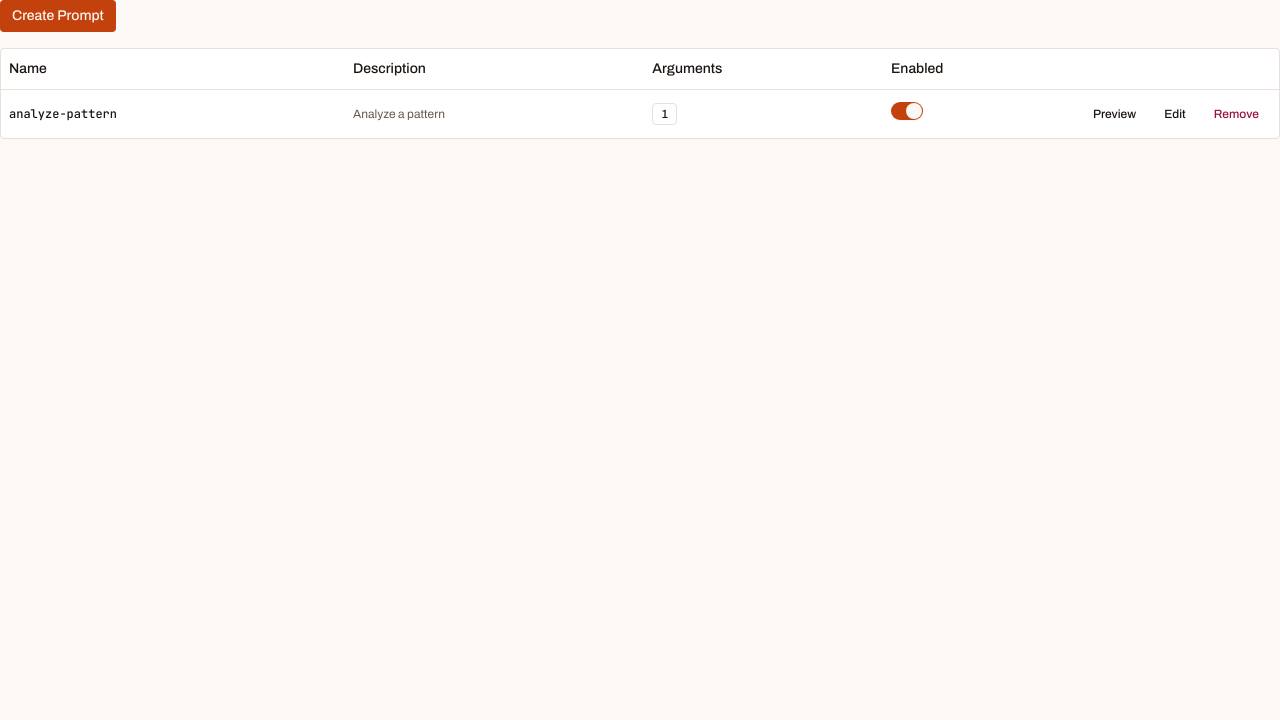
Test: preview flow › renders the template with mock arg values applied to declared names
The image size is (1280, 720).
Click the button "Preview".
click(1115, 114)  # box [1081,98,1148,130]
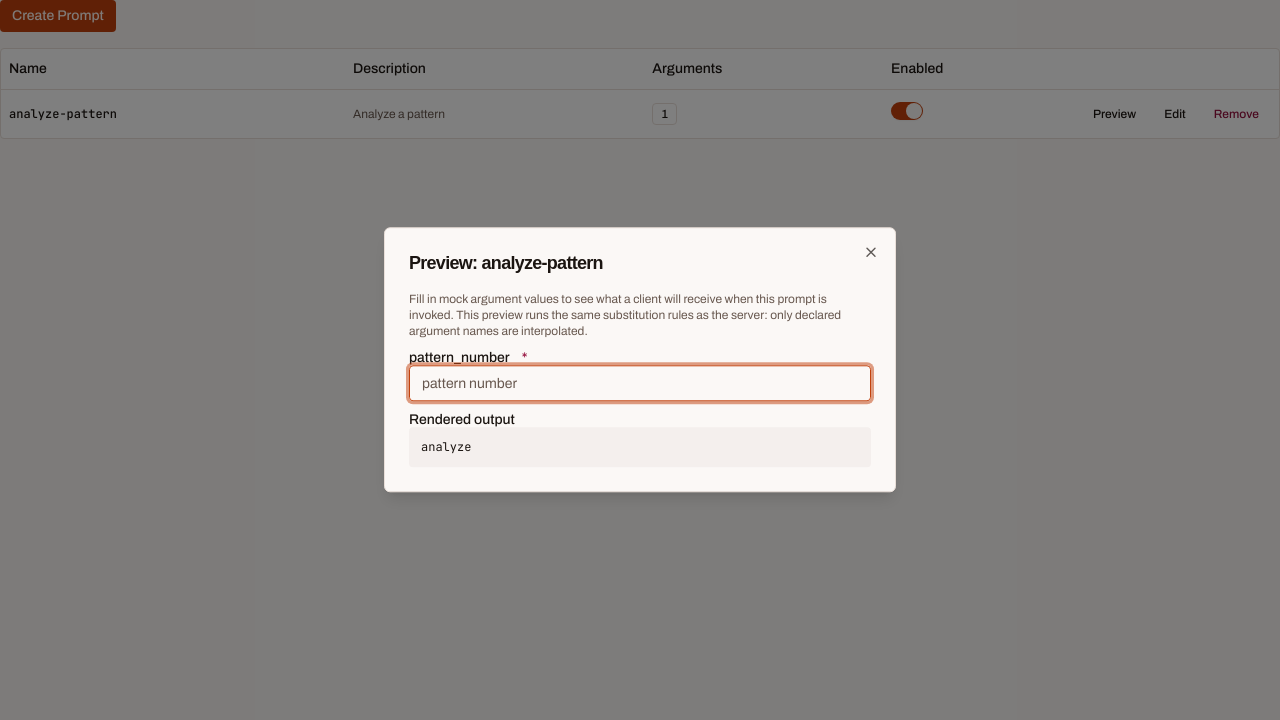
expect the heading "Preview: analyze-pattern" is shown: met, box [409,253,603,273]
expect the text with test id "preview-output" reads "analyze": met, box [421,440,479,456]
// Fill the arg and verify substitution happens client-side.
Type "7" into the field labelled "pattern_number *".
click(640, 384); type("7")  # box [409,366,871,402]
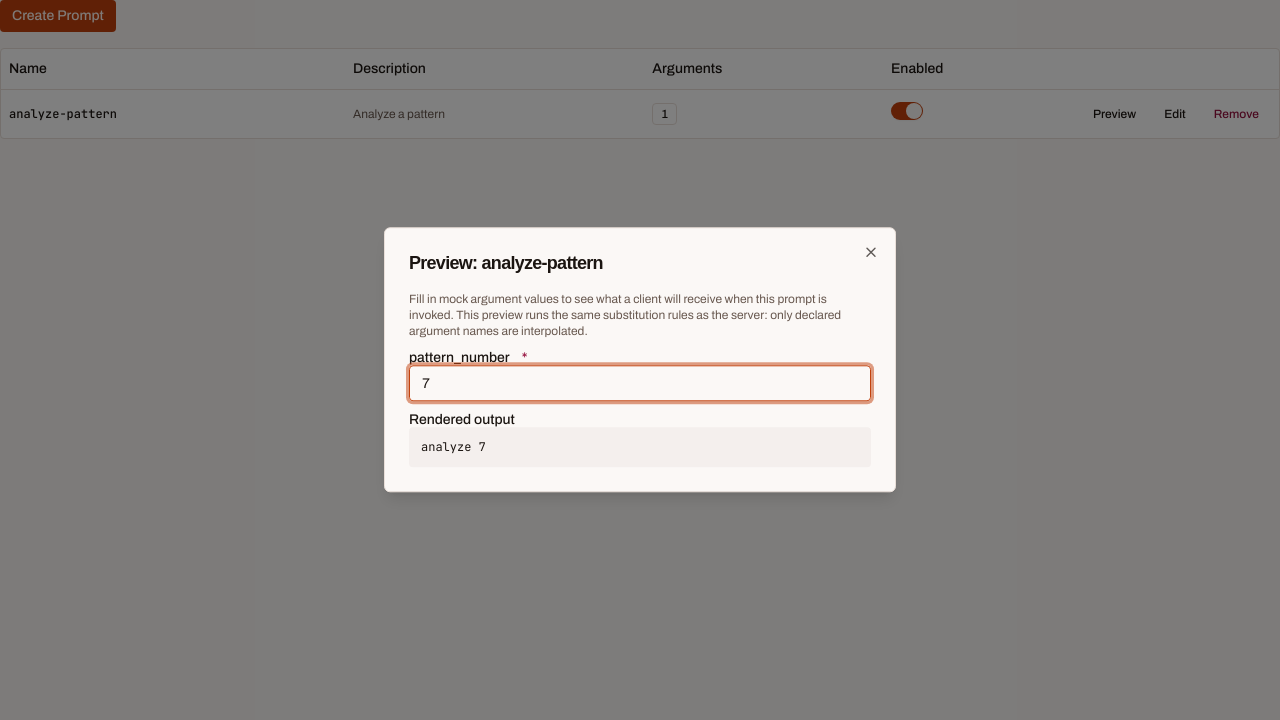
expect the text with test id "preview-output" reads "analyze 7": met, box [421,440,486,456]
